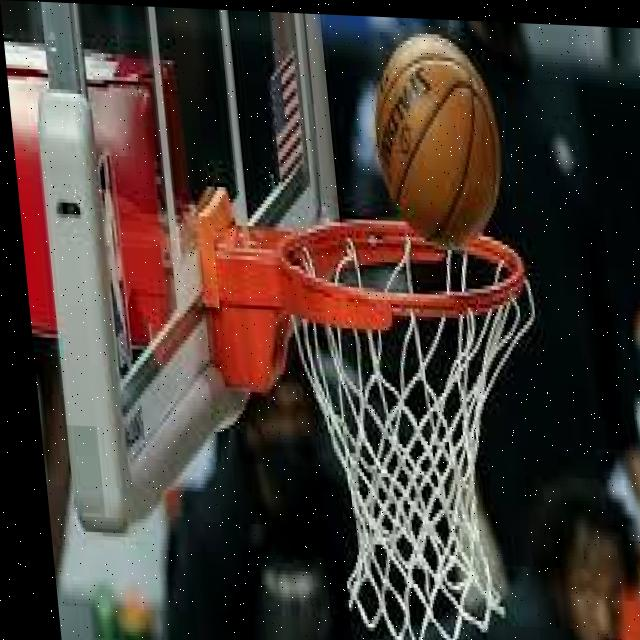basketball: (367, 31, 510, 253)
hoop: (281, 216, 561, 640)
